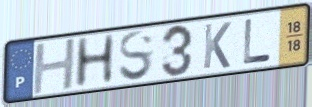3: (160, 23, 194, 80)
H: (31, 36, 79, 98), (72, 32, 118, 91)
K: (201, 20, 233, 71)
L: (241, 18, 273, 67)
S: (117, 28, 155, 83)
